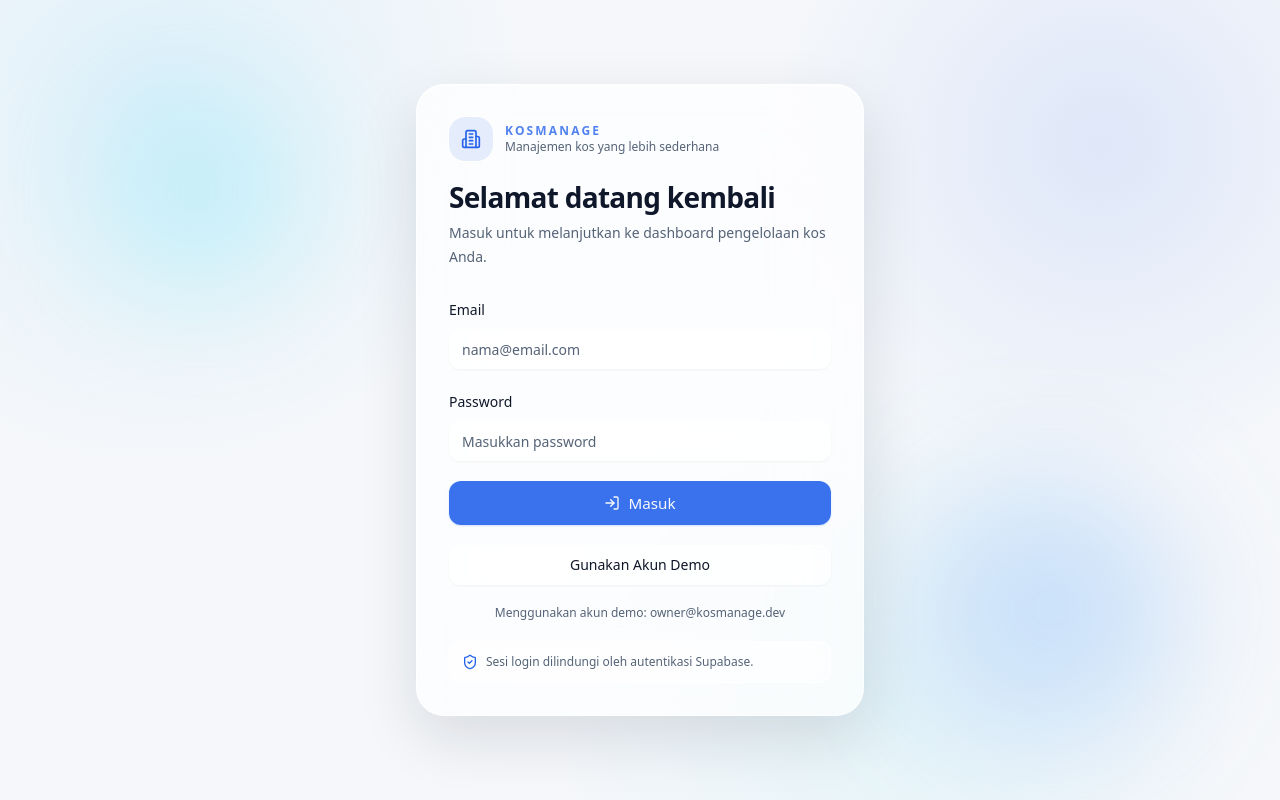
Test: LoginPage › mengisi kredensial akun demo tanpa input manual
Step 1. Click the button "Gunakan Akun Demo" → (640, 565), box x1=449 y1=545 x2=831 y2=585
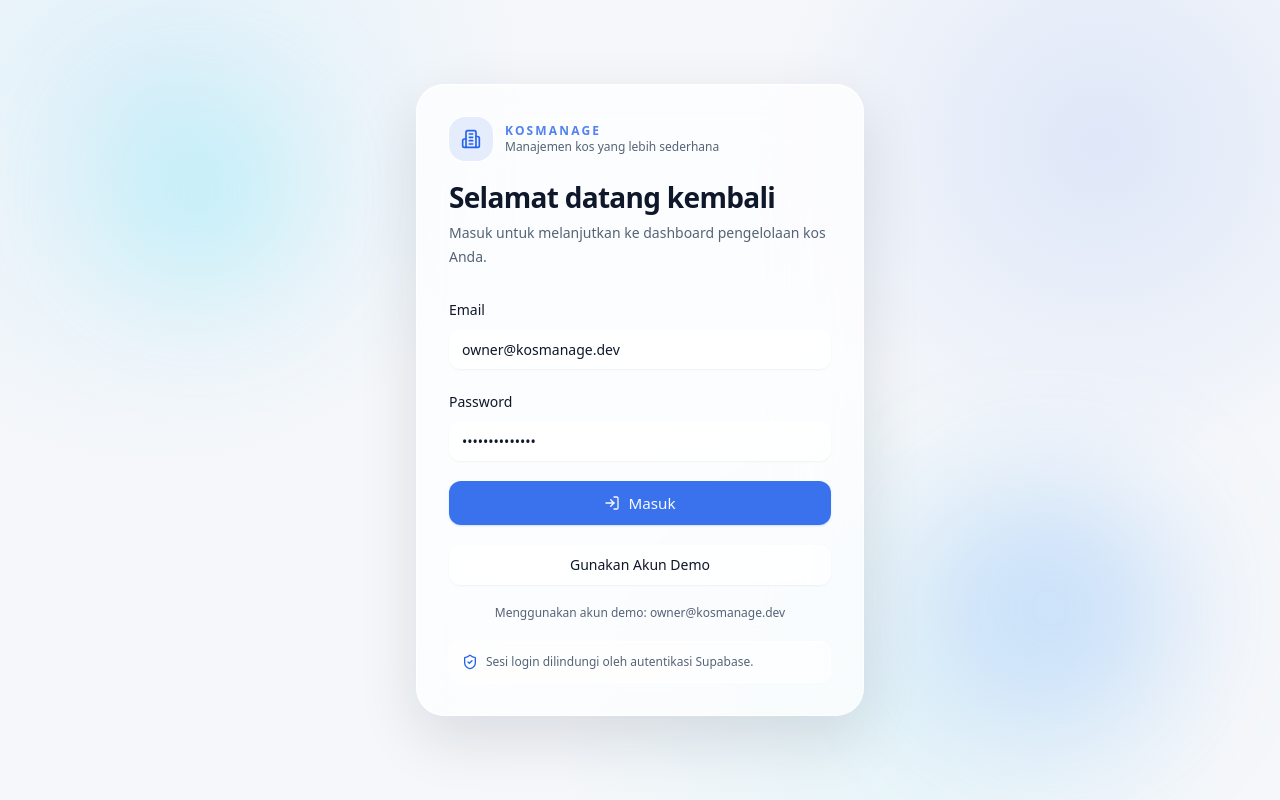
Now the field labelled "Email" holds "owner@kosmanage.dev", box x1=449 y1=329 x2=831 y2=369
Now the password field labelled "Password" holds "KosManage!dev1", box x1=449 y1=421 x2=831 y2=461
